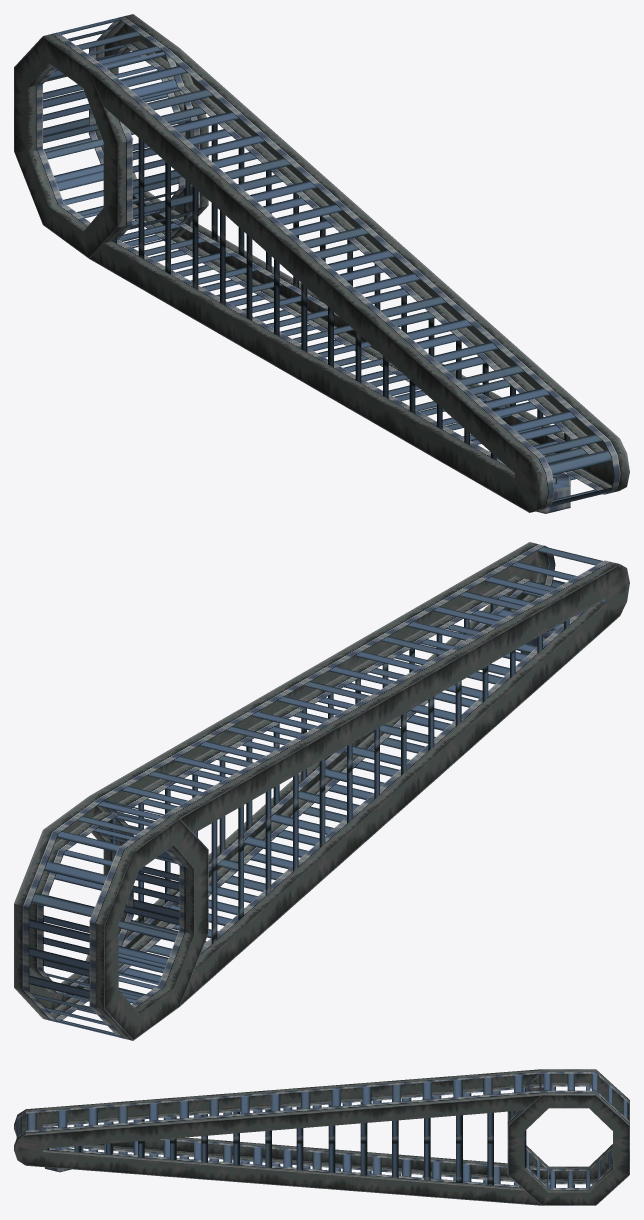
File: craneupdown.dae
3 views of the same model, one above another, from view 1: azimuth 30°, elevation 25°; view 2: azimuth 150°, elevation 25°; view 3: azimuth 270°, elevation 25° (orthographic). The views are drawn at different scales.
Visible parts, largest first — view 1: n0b0; view 2: n0b0; view 3: n0b0.
Part boxes in pixels (x1=…): n0b0: x1=14, y1=14, x2=629, y2=513; n0b0: x1=14, y1=542, x2=629, y2=1040; n0b0: x1=14, y1=1069, x2=629, y2=1205.
Bounding box in the file's own units: 180 × 360 × 1815.
1 material, 1 textured.
